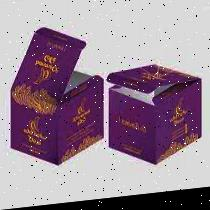cube: (106, 64, 203, 171)
